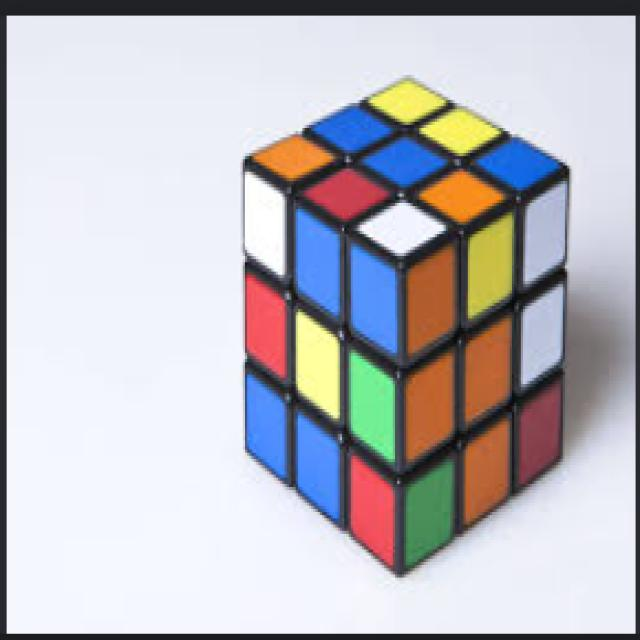Cubo-No-resuelto: (212, 78, 574, 574)
